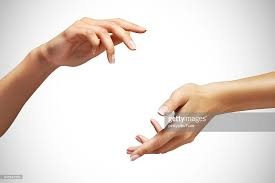hand: (121, 78, 214, 159), (31, 11, 141, 69)
